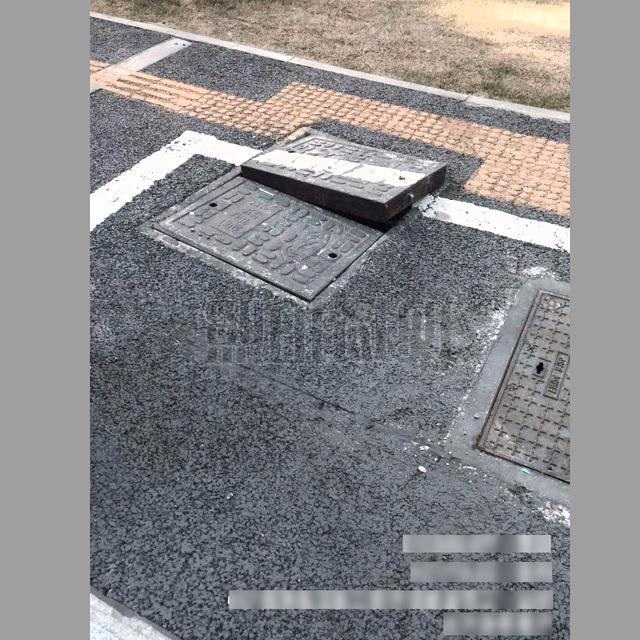uncovered: (140, 128, 453, 308)
